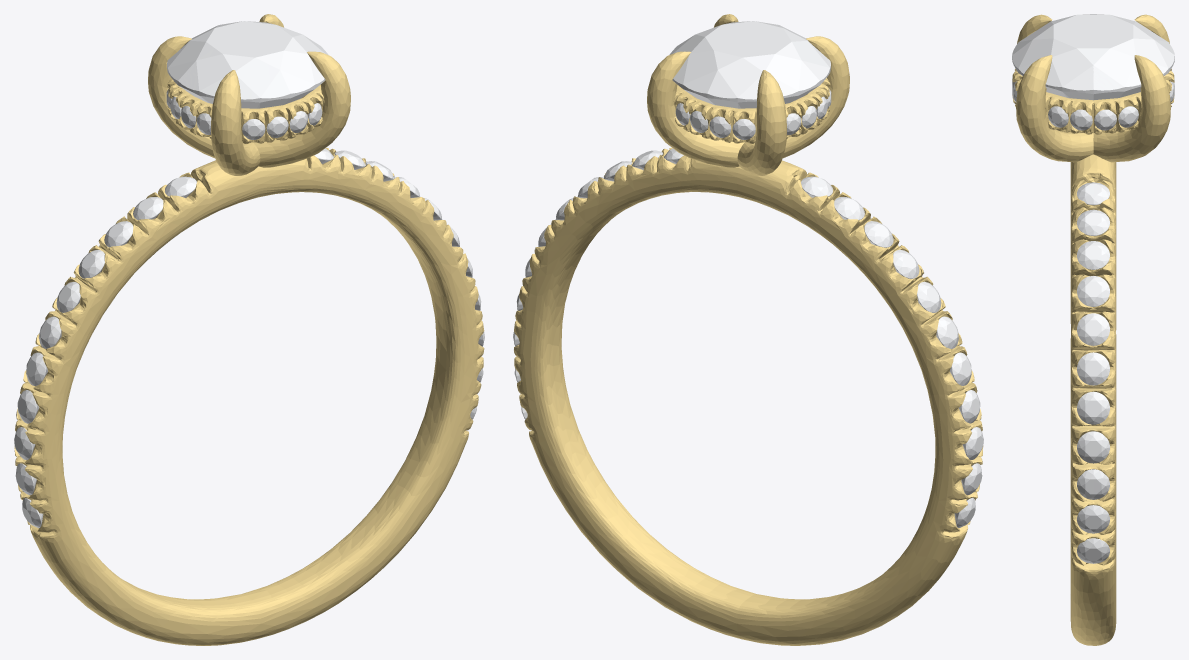
File: ada-1ct-round-nd.glb
The picture shows the model from 3 angles, left to right: view 1: azimuth 30°, elevation 25°; view 2: azimuth 150°, elevation 25°; view 3: azimuth 270°, elevation 25°; orthographic projection.
Visible parts, largest first — view 1: metal_shank, metal_head, center_stone, side_gems; view 2: metal_shank, metal_head, center_stone, side_gems; view 3: metal_shank, metal_head, side_gems, center_stone.
Boxes of the visible parts, x1,y1,x2,y2 form: metal_shank: (14, 148, 484, 645); metal_head: (148, 14, 350, 175); center_stone: (167, 21, 328, 108); side_gems: (14, 89, 484, 528); metal_shank: (514, 147, 983, 645); metal_head: (647, 14, 849, 175); center_stone: (669, 21, 830, 108); side_gems: (513, 89, 983, 527); metal_shank: (1070, 154, 1116, 645); metal_head: (1012, 14, 1174, 162); side_gems: (1012, 80, 1174, 563); center_stone: (1012, 14, 1174, 100).
Bounding box in the file's own units: 20.69 × 25.59 × 6.4.
